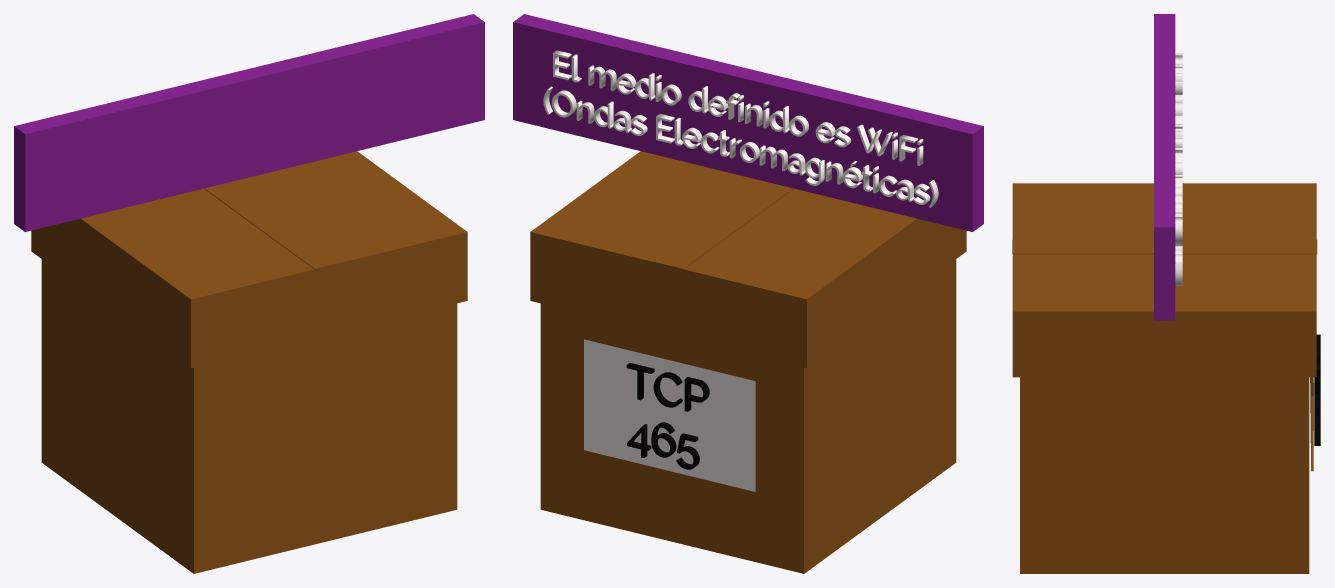
The model's file is capa4.glb.
The picture shows the model from 3 angles, left to right: view 1: azimuth 30°, elevation 25°; view 2: azimuth 150°, elevation 25°; view 3: azimuth 270°, elevation 25°; orthographic projection. The views are drawn at different scales.
Visible parts, largest first — view 1: Cube.001, k_Cube.001, Cube; view 2: Cube.001, k_Cube.001, Cube, e_Plane, Text, Text.002; view 3: Cube.001, k_Cube.001, Cube, Text, Text.002.
Boxes of the visible parts, x1,y1,x2,y2 form: Cube.001: [41, 259, 457, 573]; k_Cube.001: [31, 151, 467, 368]; Cube: [14, 14, 484, 231]; Cube.001: [540, 259, 956, 573]; k_Cube.001: [530, 151, 966, 380]; Cube: [513, 14, 983, 231]; e_Plane: [584, 339, 755, 491]; Text: [543, 50, 938, 207]; Text.002: [626, 362, 709, 469]; Cube.001: [1020, 377, 1309, 573]; k_Cube.001: [1012, 183, 1317, 471]; Cube: [1154, 14, 1175, 320]; Text: [1175, 53, 1182, 285]; Text.002: [1314, 334, 1320, 445].
Bounding box in the file's own units: 4.18 × 3.58 × 2.56.
